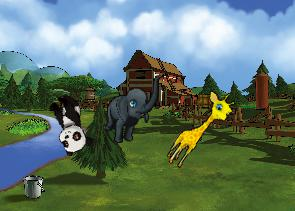elephant: (104, 73, 162, 144)
giraffe: (162, 85, 239, 176)
panda: (43, 90, 95, 157)
